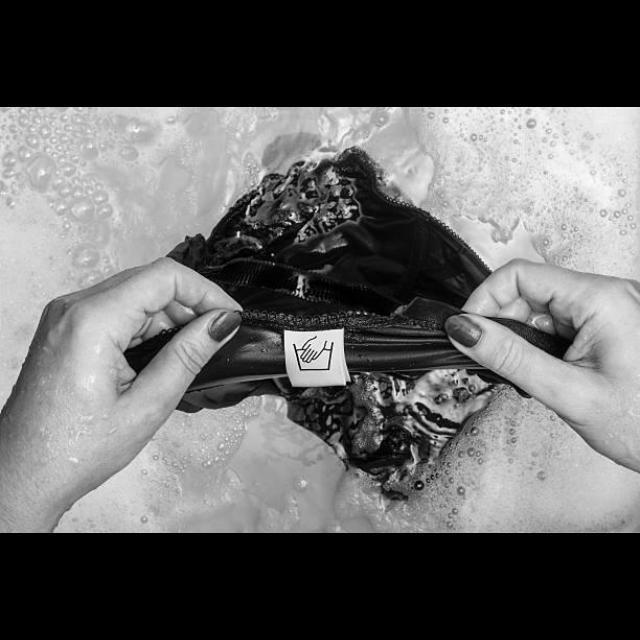hand_wash: (292, 334, 336, 374)
